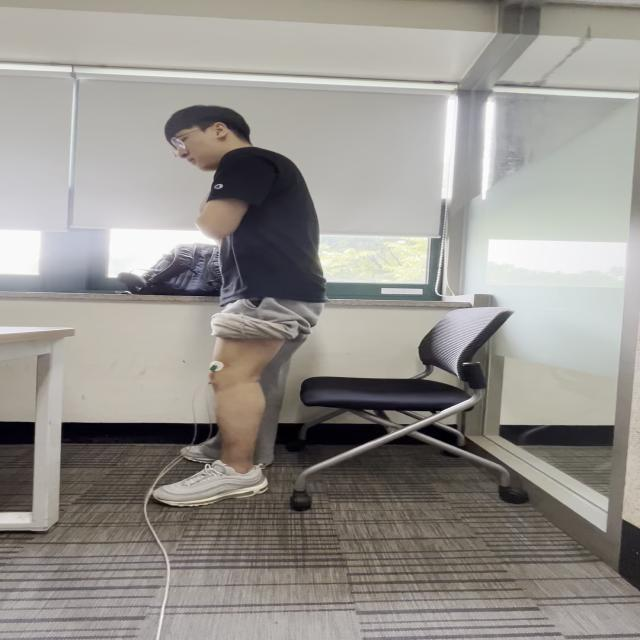stand: (203, 160, 336, 417), (162, 318, 289, 510)
